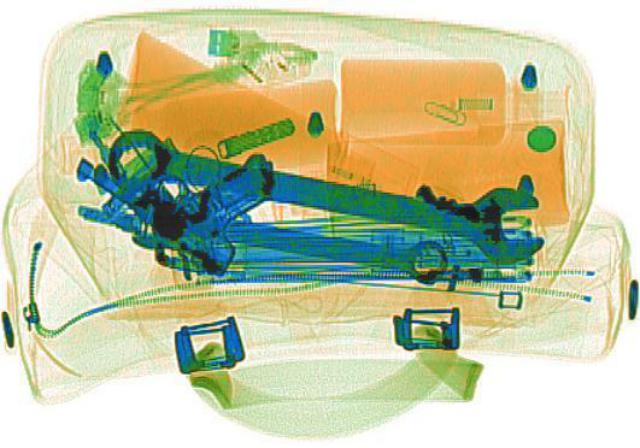Gun: (69, 100, 333, 270)
Wrench: (89, 118, 561, 266), (120, 193, 453, 289)
